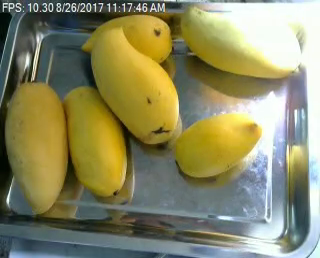Mango: (90, 22, 178, 144), (181, 4, 300, 79), (3, 80, 67, 215), (65, 87, 126, 197), (177, 113, 261, 179), (82, 16, 172, 64)
